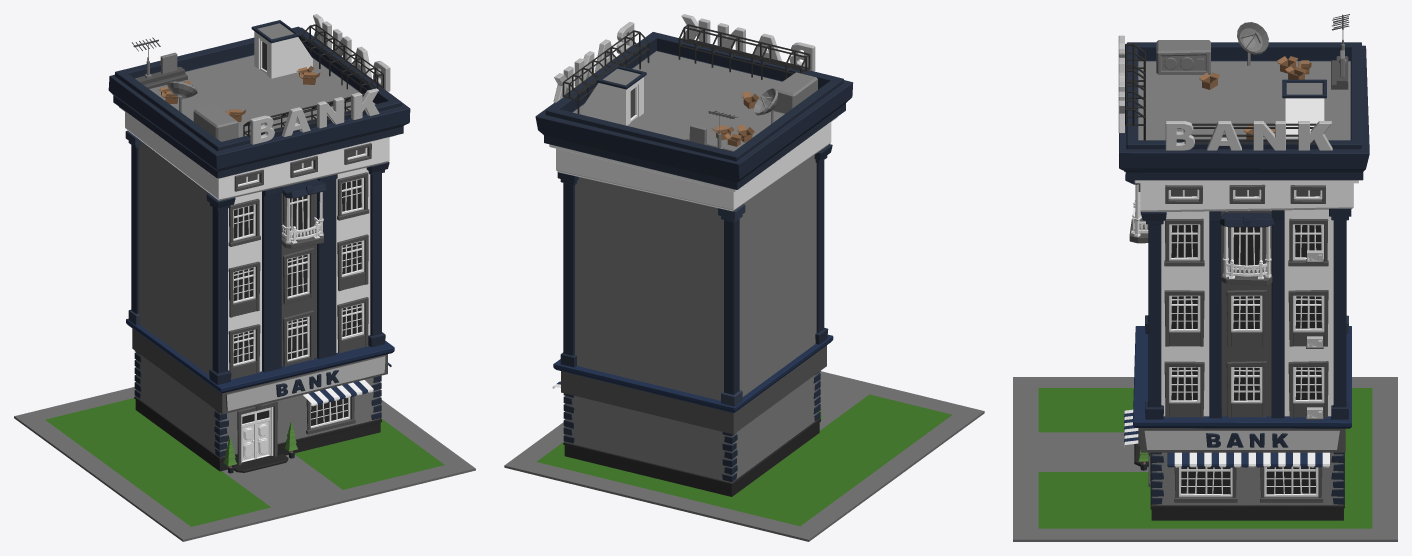
3 renders of one model, left to right at view 1: azimuth 30°, elevation 25°; view 2: azimuth 150°, elevation 25°; view 3: azimuth 270°, elevation 25°, orthographic. The views are drawn at different scales.
Parts seen in each view (by area): view 1: bank.001; view 2: bank.001; view 3: bank.001.
Part boxes in pixels (bbox=[...]): bank.001: bbox=[14, 14, 475, 541]; bank.001: bbox=[504, 14, 984, 541]; bank.001: bbox=[1013, 14, 1397, 541].
Size of the model in its own units: 15 by 18.02 by 15.
Materials: 1 (1 with a texture image).
